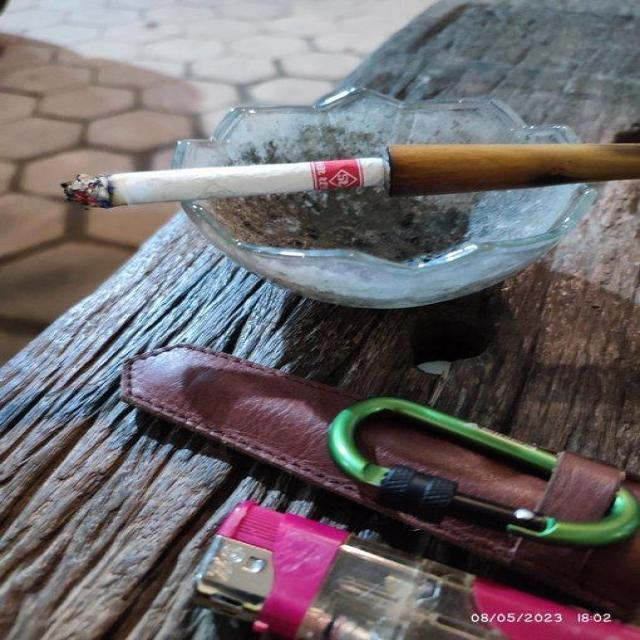rokok: (53, 146, 391, 217)
